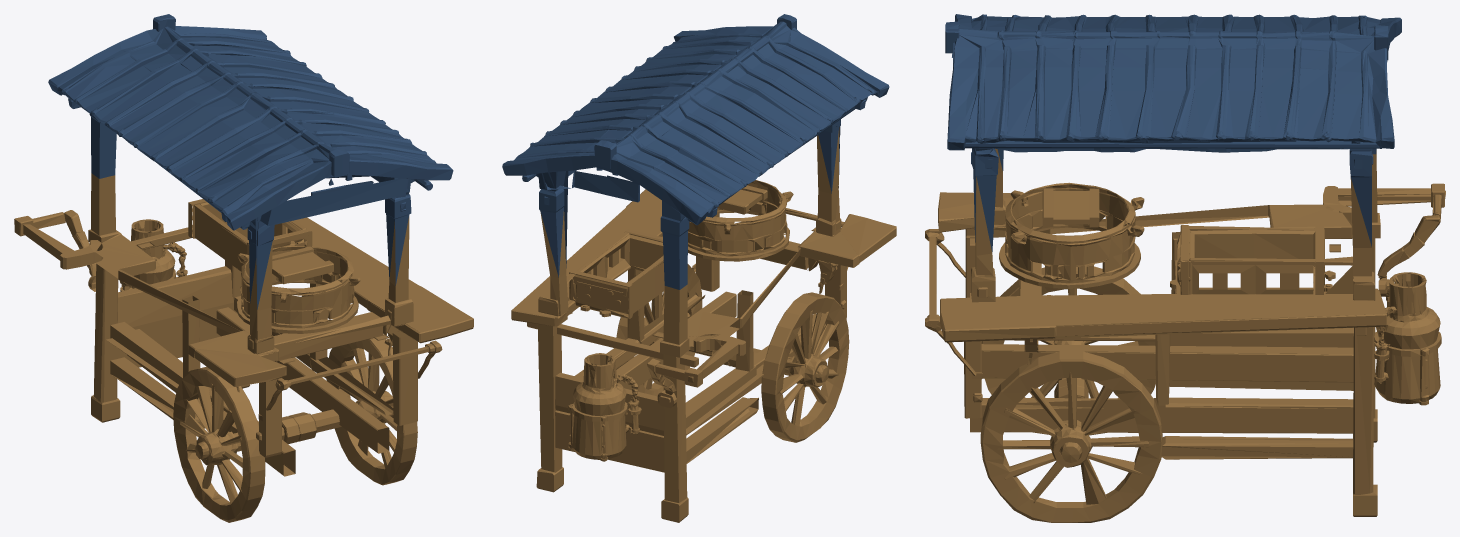
Rendered from food_cart.glb.
3 renders of one model, left to right at view 1: azimuth 30°, elevation 25°; view 2: azimuth 150°, elevation 25°; view 3: azimuth 270°, elevation 25°, orthographic. The views are drawn at different scales.
Visible parts, largest first — view 1: MeshAxiom; view 2: MeshAxiom; view 3: MeshAxiom.
Boxes of the visible parts, x1,y1,x2,y2 form: MeshAxiom: [14, 14, 473, 522]; MeshAxiom: [502, 14, 896, 522]; MeshAxiom: [925, 14, 1445, 522].
Size of the model in its own units: 1.23 by 1.8 by 1.9.
